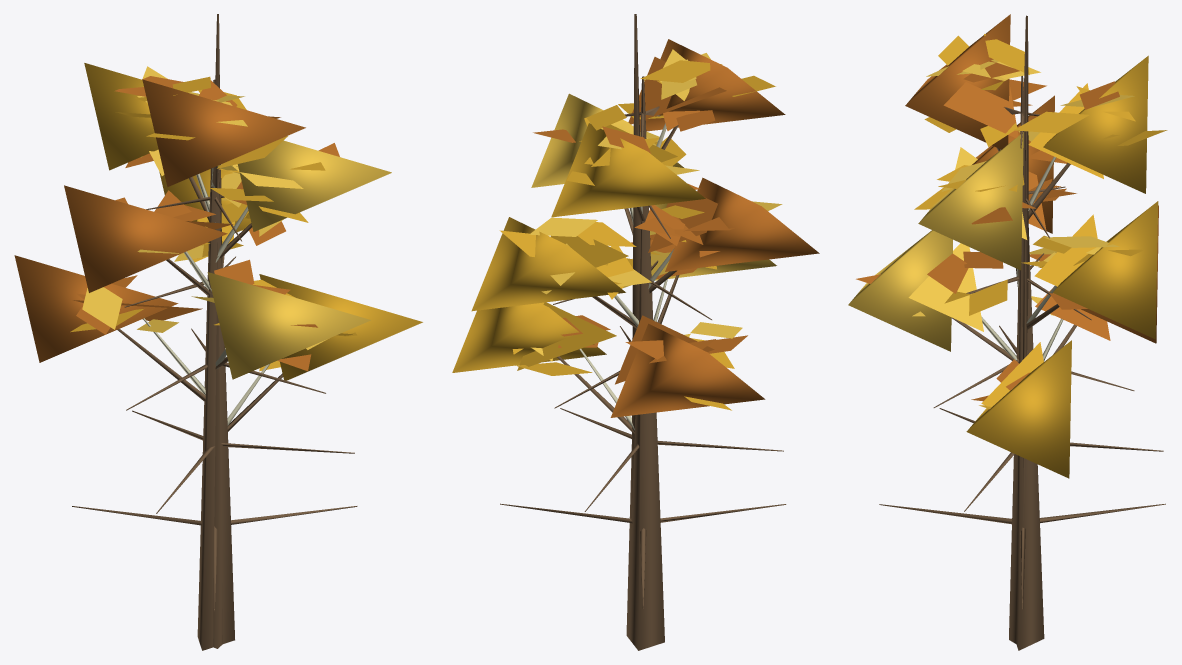
File: nature-distance.glb
The picture shows the model from 3 angles, left to right: view 1: azimuth 30°, elevation 25°; view 2: azimuth 150°, elevation 25°; view 3: azimuth 270°, elevation 25°; orthographic projection.
Parts seen in each view (by area): view 1: oak_far, birch_far, pine_far; view 2: oak_far, birch_far, pine_far; view 3: oak_far, birch_far, pine_far.
Part boxes in pixels (x1,y1,x2,y2): oak_far: (14, 63, 422, 650); birch_far: (70, 80, 352, 425); pine_far: (72, 14, 357, 648); oak_far: (452, 39, 819, 650); birch_far: (516, 49, 782, 430); pine_far: (500, 14, 786, 608); oak_far: (848, 14, 1167, 650); birch_far: (908, 60, 1119, 406); pine_far: (879, 15, 1165, 644).
Size of the model in its own units: 7.21 by 13 by 6.
